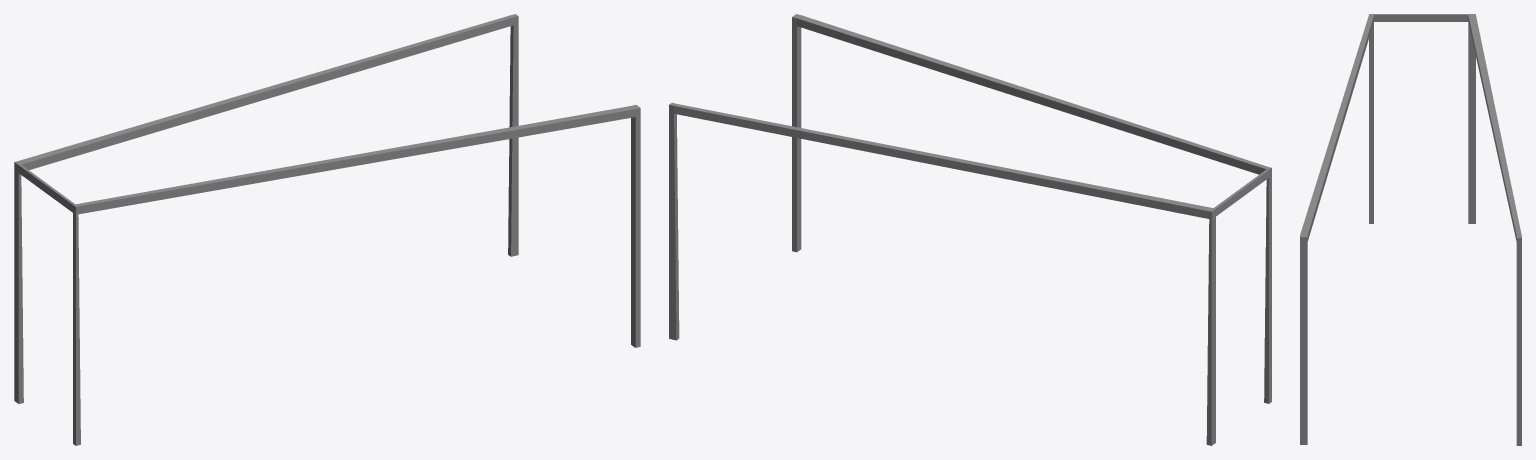
File: турник4.glb
The picture shows the model from 3 angles, left to right: view 1: azimuth 30°, elevation 25°; view 2: azimuth 150°, elevation 25°; view 3: azimuth 270°, elevation 25°; orthographic projection. The views are drawn at different scales.
Parts seen in each view (by area): view 1: SM_Vostochnaya_Vl_4A_Flora.002; view 2: SM_Vostochnaya_Vl_4A_Flora.002; view 3: SM_Vostochnaya_Vl_4A_Flora.002.
Boxes of the visible parts, x1,y1,x2,y2 form: SM_Vostochnaya_Vl_4A_Flora.002: (14,14,640,445); SM_Vostochnaya_Vl_4A_Flora.002: (669,14,1271,445); SM_Vostochnaya_Vl_4A_Flora.002: (1300,14,1521,445).
Size of the model in its own units: 2.47 by 1.07 by 1.03.
Materials: 1 (1 with a texture image).
